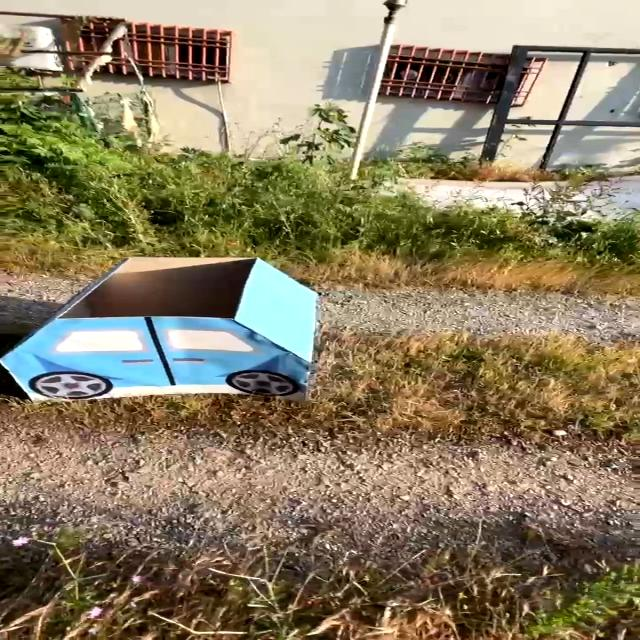blue_car: (0, 238, 356, 447)
